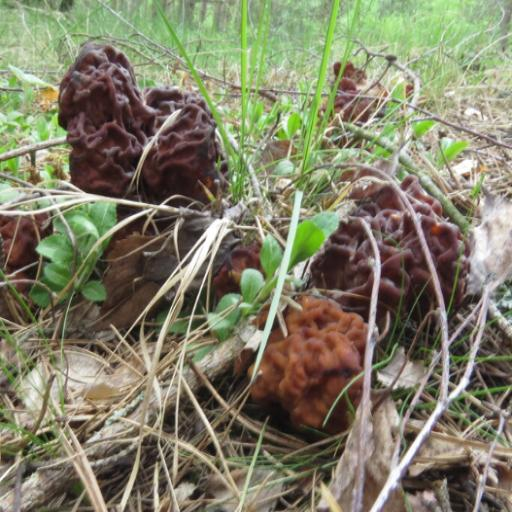False Morel: (26, 38, 240, 243), (235, 284, 386, 439), (315, 187, 466, 313)
